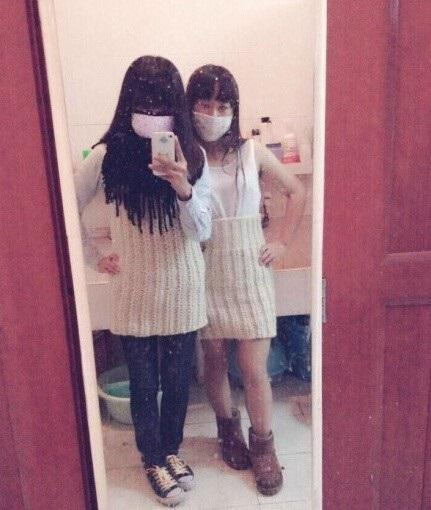OK: (129, 94, 180, 145)
WRONG: (195, 99, 233, 140)
